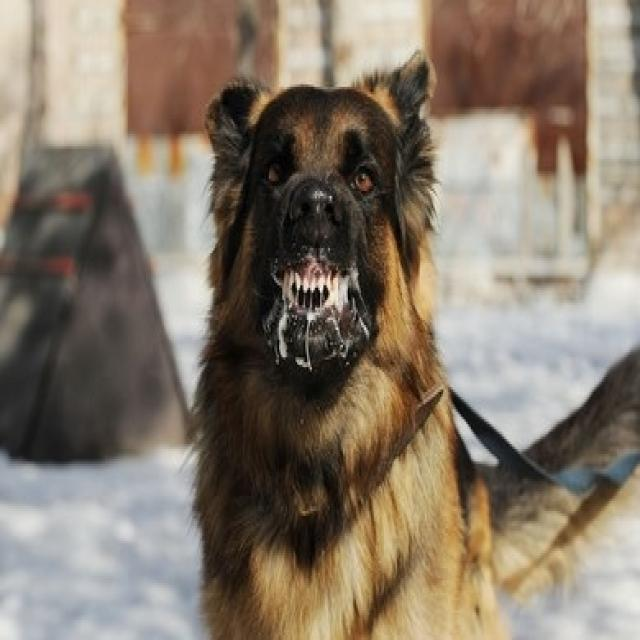angry: (192, 35, 487, 640)
